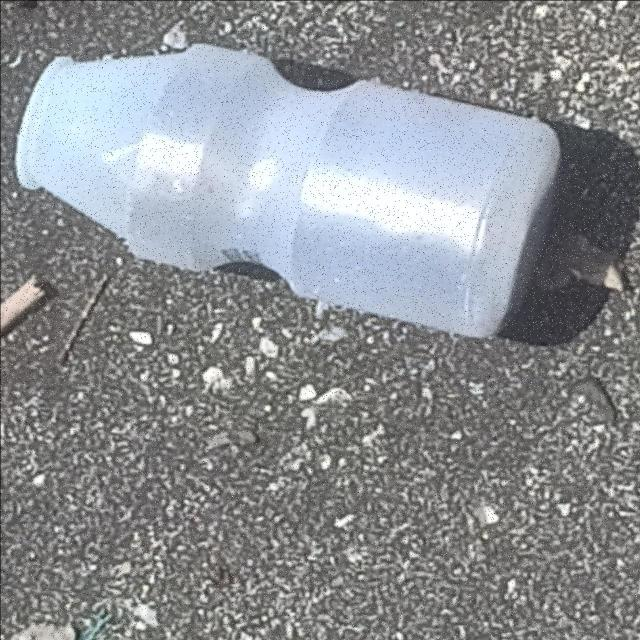plastic_waste: (11, 41, 563, 341)
